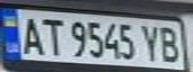4: (103, 19, 121, 60)
5: (118, 20, 139, 61), (84, 19, 106, 58)
9: (63, 17, 87, 57)
A: (15, 14, 45, 56)
B: (154, 24, 184, 63)
T: (36, 15, 66, 56)
Y: (136, 21, 163, 62)
